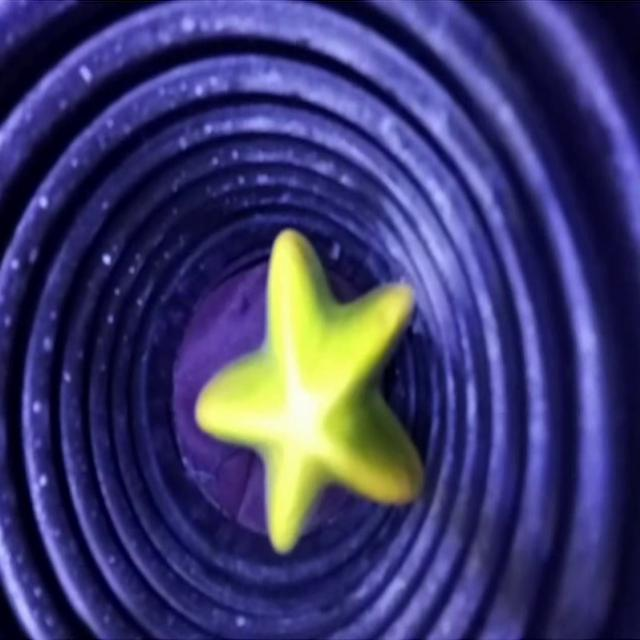block: (175, 273, 267, 529)
obstacles: (195, 233, 424, 552)
